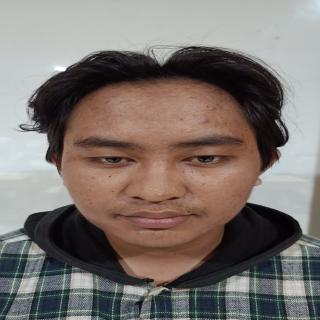Netral: (51, 74, 269, 253)
